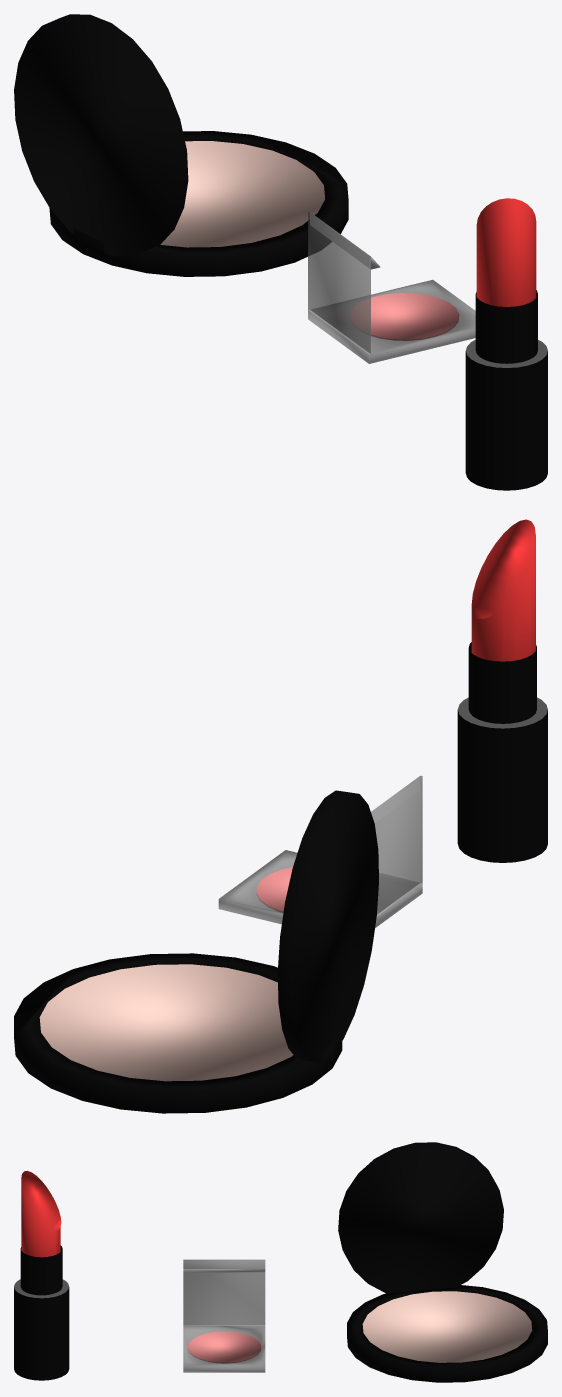
3 renders of one model, top to bottom at view 1: azimuth 30°, elevation 25°; view 2: azimuth 150°, elevation 25°; view 3: azimuth 270°, elevation 25°, orthographic. The views are drawn at different scales.
Visible parts, largest first — view 1: Mesh1_Group1_Model.003; view 2: Mesh1_Group1_Model.003; view 3: Mesh1_Group1_Model.003.
Part boxes in pixels (<box>): Mesh1_Group1_Model.003: <box>14,14,547,490</box>; Mesh1_Group1_Model.003: <box>14,519,547,1113</box>; Mesh1_Group1_Model.003: <box>14,1142,547,1382</box>.
Size of the model in its own units: 0.9992 by 1 by 2.51.
